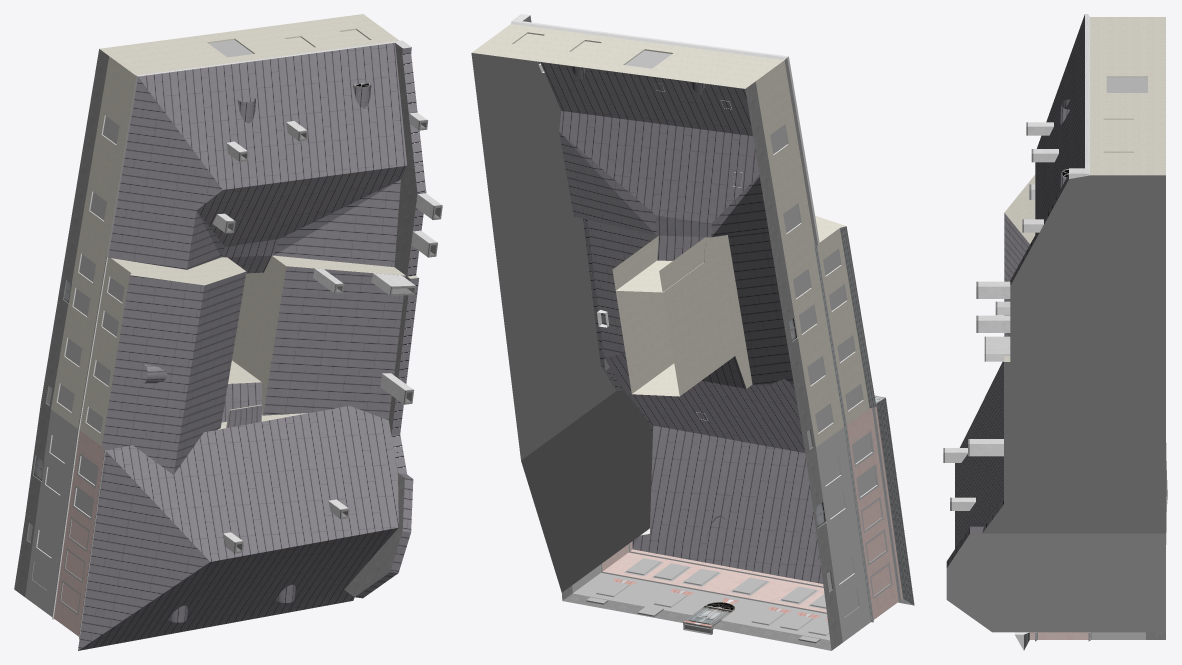
Rendered from Tolli_8.obj.
3 renders of one model, left to right at view 1: azimuth 30°, elevation 25°; view 2: azimuth 150°, elevation 25°; view 3: azimuth 270°, elevation 25°, orthographic. The views are drawn at different scales.
Visible parts, largest first — view 1: Tolli_8; view 2: Tolli_8; view 3: Tolli_8.
Boxes of the visible parts, bbox=[...] form: Tolli_8: bbox=[14, 14, 442, 650]; Tolli_8: bbox=[471, 14, 914, 650]; Tolli_8: bbox=[943, 14, 1167, 650].
Bounding box in the file's own units: 30.59 × 44.83 × 16.68.
